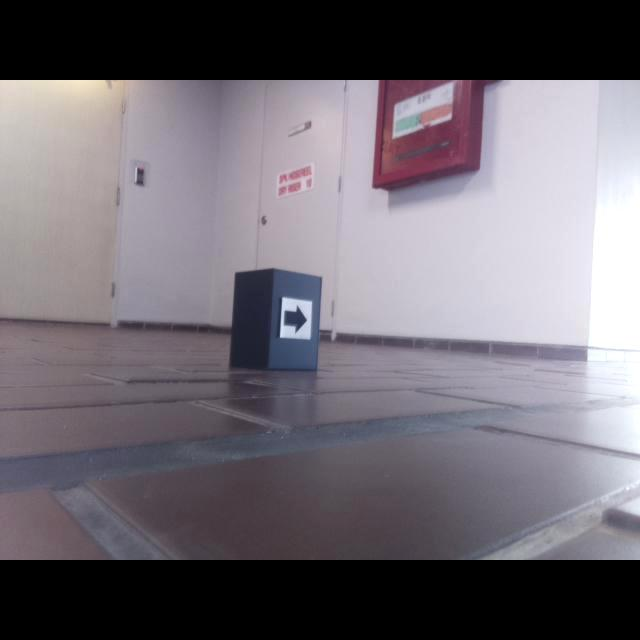RIGHT: (283, 302, 308, 335)
